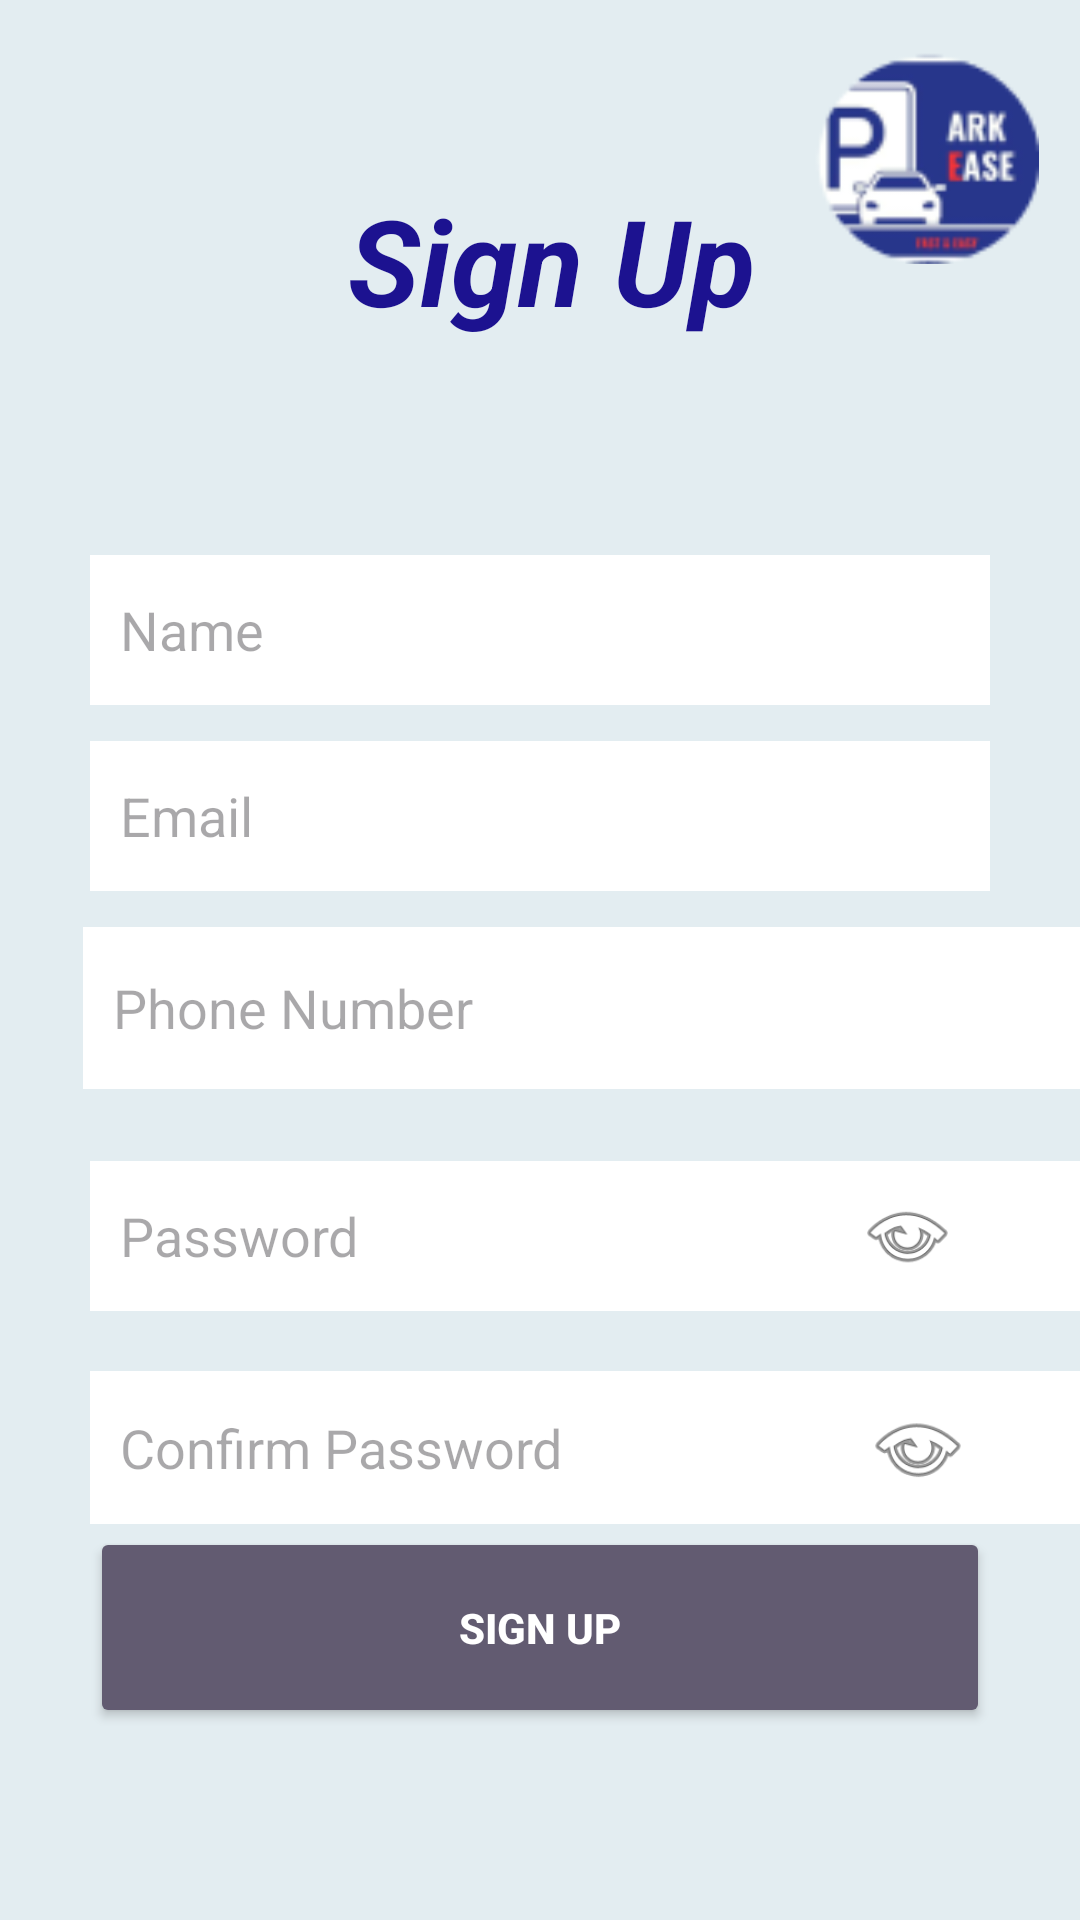

Where to tap for icons on this 1080 × 1920 app screen, as point (x, y):
view: point (907, 1237), point (918, 1450)
